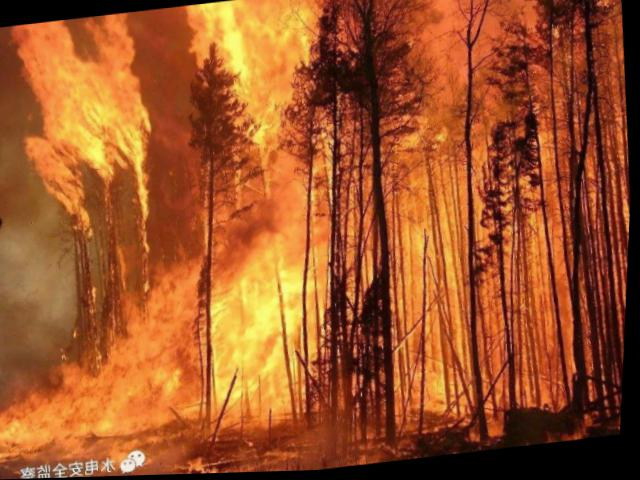fire: (0, 0, 639, 470)
